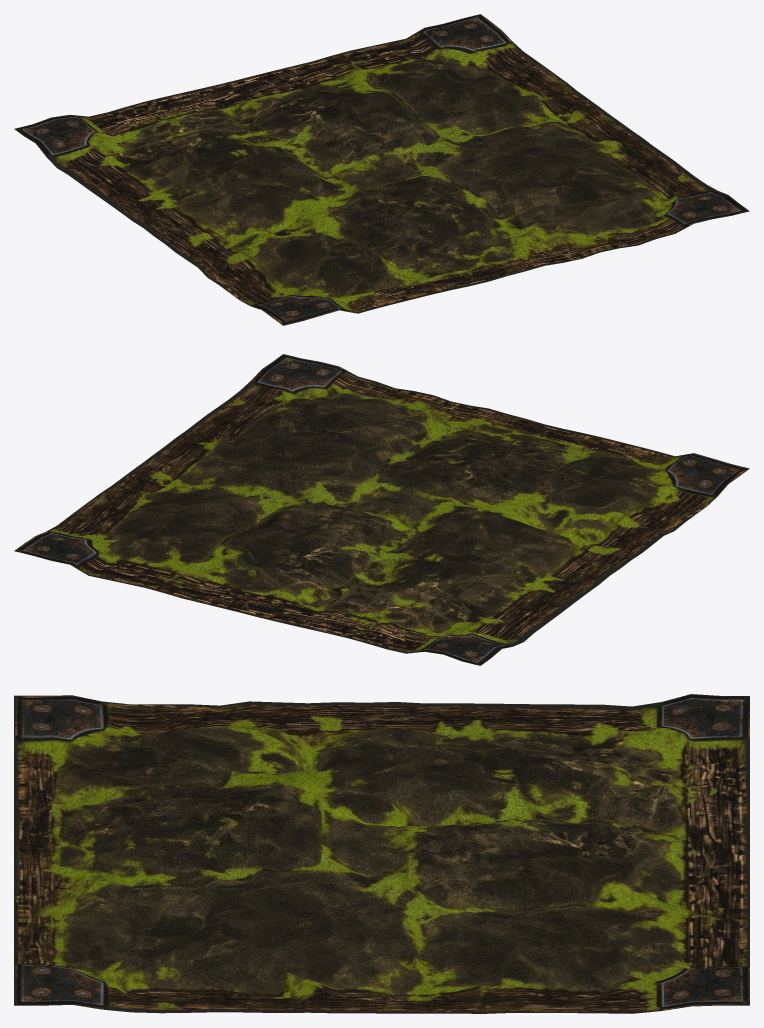
Rendered from prison-floor-1.glb.
3 renders of one model, top to bottom at view 1: azimuth 30°, elevation 25°; view 2: azimuth 150°, elevation 25°; view 3: azimuth 270°, elevation 25°, orthographic. The views are drawn at different scales.
Visible parts, largest first — view 1: floortile1; view 2: floortile1; view 3: floortile1.
Part boxes in pixels (x1,y1,x2,y2): floortile1: (14, 14, 749, 325); floortile1: (14, 354, 749, 665); floortile1: (14, 694, 749, 1013).
Size of the model in its own units: 2 by 0.1061 by 2.
Materials: 1 (1 with a texture image).
